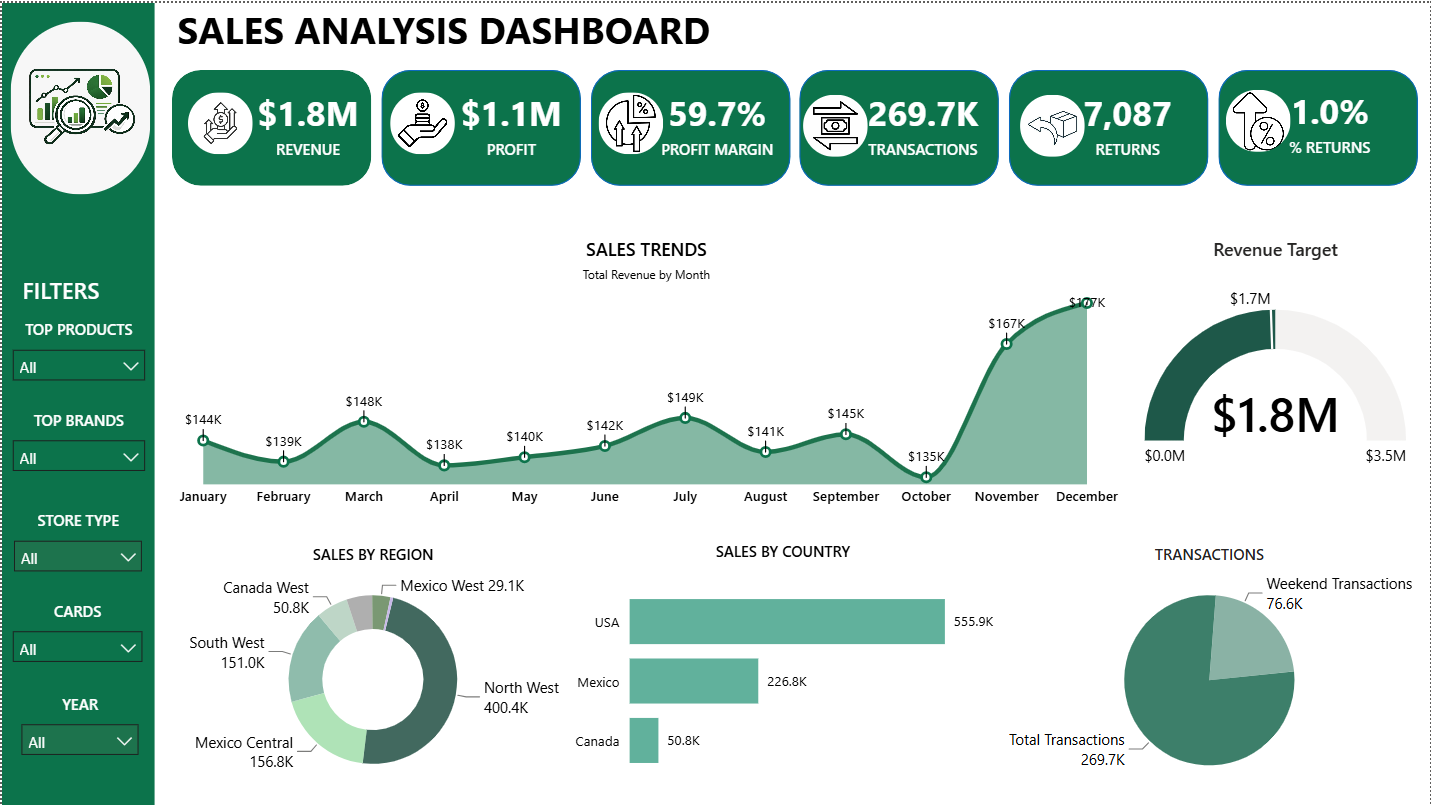

What the dashboard file says about the page in this screenshot:
{"tool":"powerbi","page":{"name":"Sales Overview","canvas":[1280,720],"ordinal":0},"visuals":[{"type":"card","fields":{"Values":["Measure Table (DAX).Total Revenue"]},"box":[186.3,32.6,175.3,150],"z":0,"group":"g2"},{"type":"group","id":"g1","title":"shapes","box":[152.5,60.5,1115.6,104.1],"z":0},{"type":"shape","box":[1090,60.5,178.8,103.8],"z":0,"group":"g1"},{"type":"group","id":"g2","title":"cards","box":[186.3,30.6,1091,152],"z":1000},{"type":"card","fields":{"Values":["Measure Table (DAX).Profit Margin"]},"box":[552.8,32.6,175.3,150],"z":1000,"group":"g2"},{"type":"shape","box":[152.5,60.5,178.8,103.8],"z":1000,"group":"g1"},{"type":"card","fields":{"Values":["Measure Table (DAX).Total Profit"]},"box":[369,32.6,175.3,150],"z":2000,"group":"g2"},{"type":"shape","box":[340,60.5,178.8,103.8],"z":2000,"group":"g1"},{"type":"lineChart","title":"SALES TRENDS","fields":{"Category":["Calendar.Start of Month.Variation.Date Hierarchy.Year","Calendar.Start of Month.Variation.Date Hierarchy.Quarter","Calendar.Start of Month.Variation.Date Hierarchy.Month"],"Y":["Measure Table (DAX).Total Revenue"]},"box":[146.4,210.5,861.5,251.7],"z":2000},{"type":"shape","box":[0,0,136.7,719.9],"z":3000},{"type":"card","fields":{"Values":["Measure Table (DAX).Total Transactions"]},"box":[737.9,32.6,175.3,150],"z":3000,"group":"g2"},{"type":"shape","box":[527.5,60.5,178.8,103.8],"z":3000,"group":"g1"},{"type":"card","fields":{"Values":["Measure Table (DAX).Total Returns"]},"box":[920.6,32.6,175.3,150],"z":4000,"group":"g2"},{"type":"shape","box":[715,60.5,178.8,103.8],"z":4000,"group":"g1"},{"type":"slicer","title":"TOP PRODUCTS","fields":{"Values":["Products.product_name"]},"box":[0.2,282.8,137.9,66.5],"z":4000},{"type":"card","fields":{"Values":["Measure Table (DAX).% Return Rate"]},"box":[1101.8,30.6,175.4,150],"z":5000,"group":"g2"},{"type":"shape","box":[902.5,60.5,178.8,103.8],"z":5000,"group":"g1"},{"type":"slicer","title":"TOP BRANDS","fields":{"Values":["Products.product_brand"]},"box":[0.2,364.6,137.9,75],"z":5000},{"type":"slicer","title":"CARDS","fields":{"Values":["Customers.member_card"]},"box":[0,535.8,135.6,67.8],"z":6000},{"type":"donutChart","title":"SALES BY REGION","fields":{"Y":["Measure Table (DAX).Quantity Sold"],"Category":["Regions.sales_region"]},"box":[152.5,484,360.6,226.3],"z":7000},{"type":"barChart","title":"SALES BY COUNTRY","fields":{"Category":["Customers.customer_country"],"Y":["Measure Table (DAX).Quantity Sold"]},"box":[505.7,482.8,388.4,227.5],"z":8000},{"type":"gauge","title":"Revenue Target","fields":{"Y":["Measure Table (DAX).Total Revenue"],"TargetValue":["Measure Table (DAX).Revenue Target"]},"box":[1018.8,210.5,244.4,226.3],"z":9000},{"type":"textbox","title":"SALES ANALYSIS DASHBOARD","box":[152.1,0,615.6,93.8],"z":10000},{"type":"textbox","title":"FILTERS","box":[13.8,243.8,121.2,23.8],"z":11000},{"type":"image","box":[166.3,79.6,58.3,55.4],"z":12000},{"type":"image","box":[1096.2,77.4,58.1,55.7],"z":13000},{"type":"image","box":[912.7,82.5,58.3,55.4],"z":14000},{"type":"image","box":[717.9,82.5,58.3,55.4],"z":15000},{"type":"image","box":[534.5,79.6,58.3,55.4],"z":16000},{"type":"image","box":[348.3,79.6,58.3,55.4],"z":17000},{"type":"pieChart","title":"TRANSACTIONS","fields":{"Y":["Measure Table (DAX).Total Transactions","Measure Table (DAX).Weekend Transactions"]},"box":[894.1,484,375.1,227.5],"z":18000},{"type":"slicer","title":"STORE TYPE","fields":{"Values":["Stores.store_type"]},"box":[1.1,455,134.4,65.6],"z":19000},{"type":"image","box":[7.3,16.9,124.6,154.9],"z":20000},{"type":"slicer","title":"YEAR","fields":{"Values":["Calendar.Year"]},"box":[7.8,618.9,124.4,76.7],"z":20001}]}

Visuals, with their boxes in screenshot pixels (x1, y1, x2, y2), scaled from the page's 1280x720 canvas onto the 1431x805 screenshot:
card - Measure Table (DAX).Total Revenue: crop(208, 36, 404, 204)
"shapes" group: crop(170, 68, 1418, 184)
shape: crop(1219, 68, 1418, 184)
"cards" group: crop(208, 34, 1428, 204)
card - Measure Table (DAX).Profit Margin: crop(618, 36, 814, 204)
shape: crop(170, 68, 370, 184)
card - Measure Table (DAX).Total Profit: crop(413, 36, 609, 204)
shape: crop(380, 68, 580, 184)
"SALES TRENDS" lineChart: crop(164, 235, 1127, 517)
shape: crop(0, 0, 153, 804)
card - Measure Table (DAX).Total Transactions: crop(825, 36, 1021, 204)
shape: crop(590, 68, 790, 184)
card - Measure Table (DAX).Total Returns: crop(1029, 36, 1225, 204)
shape: crop(799, 68, 999, 184)
"TOP PRODUCTS" slicer: crop(0, 316, 154, 391)
card - Measure Table (DAX).% Return Rate: crop(1232, 34, 1428, 202)
shape: crop(1009, 68, 1209, 184)
"TOP BRANDS" slicer: crop(0, 408, 154, 491)
"CARDS" slicer: crop(0, 599, 152, 675)
"SALES BY REGION" donutChart: crop(170, 541, 574, 794)
"SALES BY COUNTRY" barChart: crop(565, 540, 1000, 794)
"Revenue Target" gauge: crop(1139, 235, 1412, 488)
"SALES ANALYSIS DASHBOARD" textbox: crop(170, 0, 858, 105)
"FILTERS" textbox: crop(15, 273, 151, 299)
image: crop(186, 89, 251, 151)
image: crop(1226, 87, 1290, 149)
image: crop(1020, 92, 1086, 154)
image: crop(803, 92, 868, 154)
image: crop(598, 89, 663, 151)
image: crop(389, 89, 455, 151)
"TRANSACTIONS" pieChart: crop(1000, 541, 1419, 795)
"STORE TYPE" slicer: crop(1, 509, 151, 582)
image: crop(8, 19, 147, 192)
"YEAR" slicer: crop(9, 692, 148, 778)
